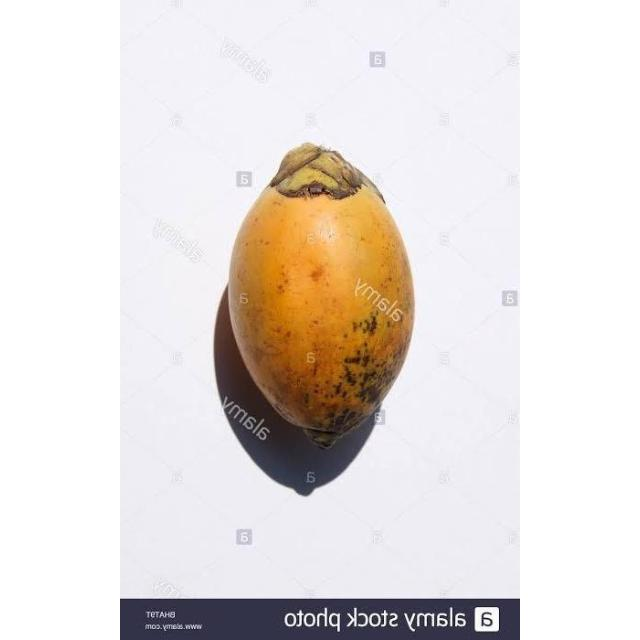good: (226, 144, 415, 452)
